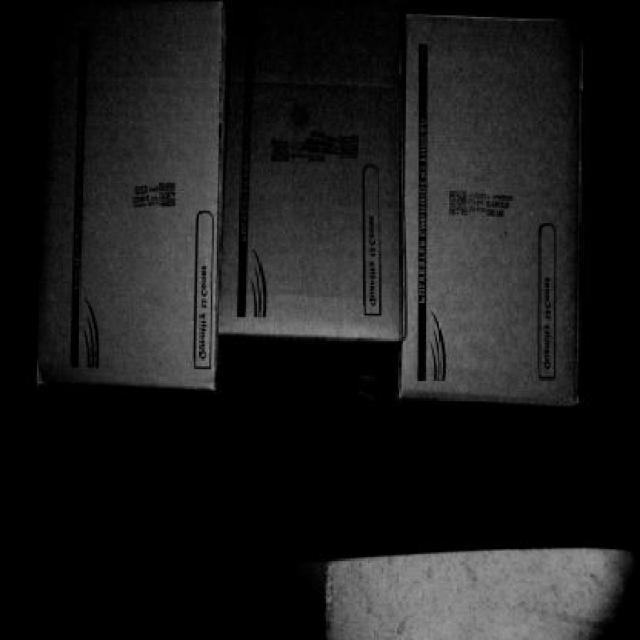cardboxes: (35, 11, 222, 384), (402, 11, 580, 392), (222, 9, 403, 337)
